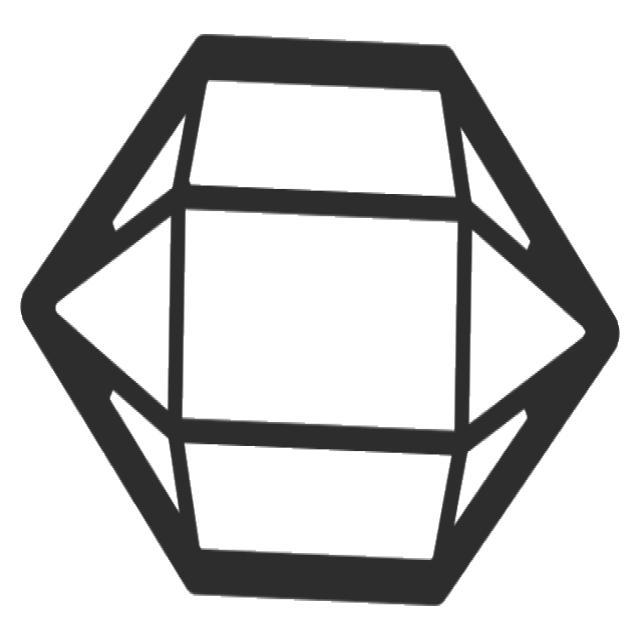crystal: (6, 23, 633, 616)
